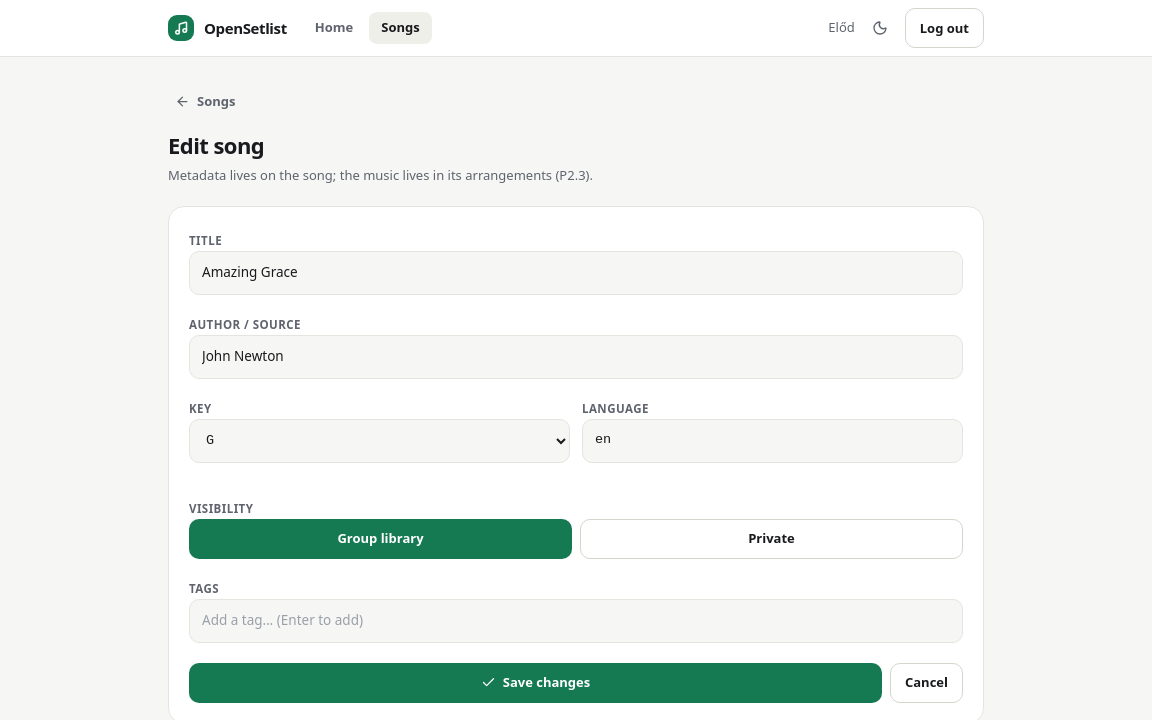
Test: SongFormPage › prefills the form in edit mode and shows the conflict banner on a stale 409
Note: Wait for the song to load and prefill the title input.
Replace the text in the field showing "Amazing Grace" with "Amazing Grace (reprise)": (576, 272) [189,250,963,294]
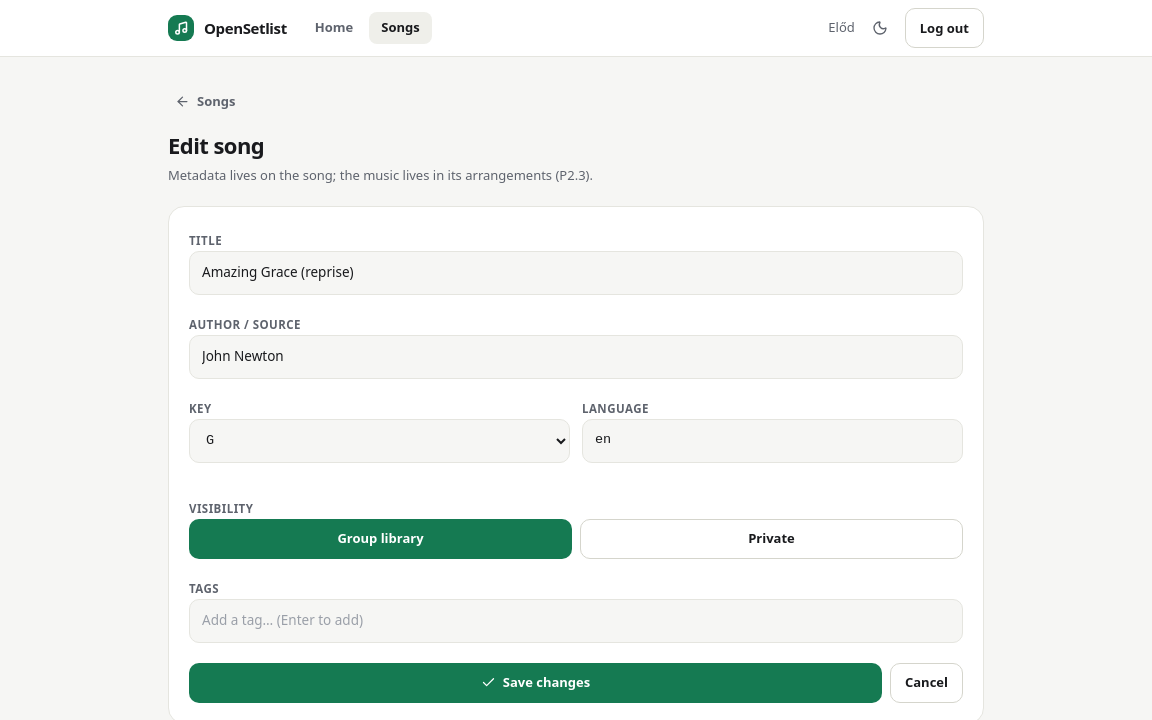
Click the button "Save changes": (536, 682) [189,662,882,702]
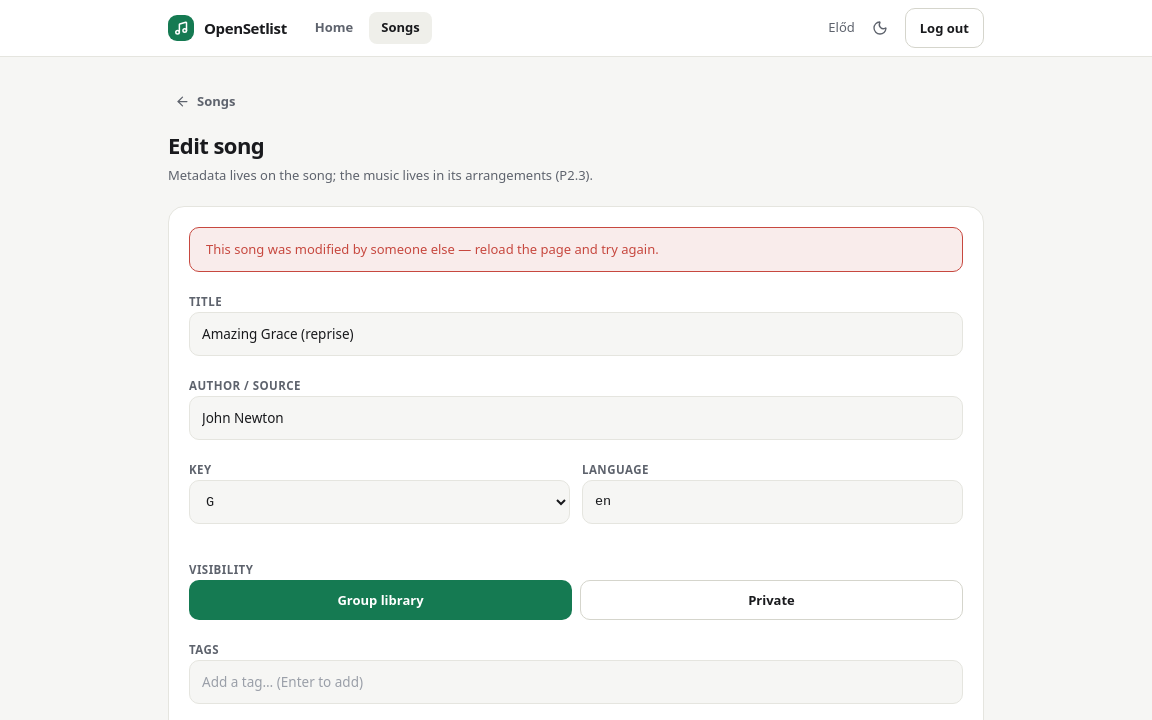
expect the message shows "modified by someone else": met, box [206,240,659,258]
